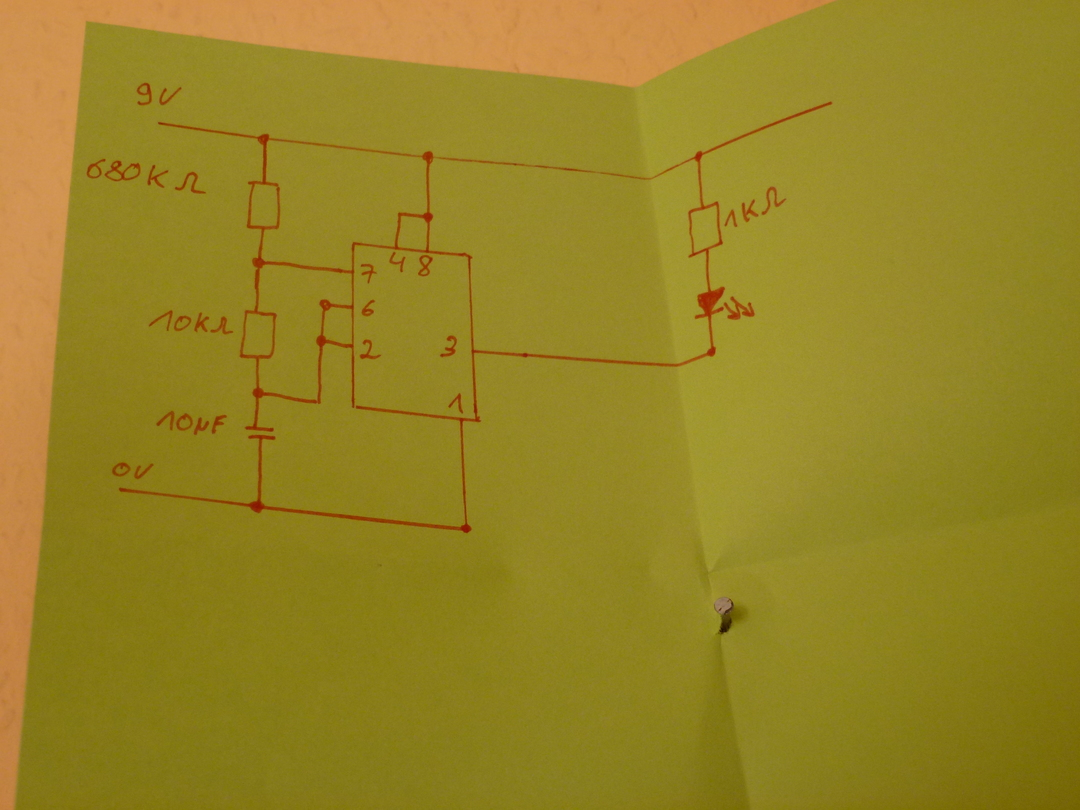capacitor.unpolarized: (243, 422, 278, 443)
diode.light_emitting: (694, 286, 757, 321)
integrated_cricuit.ne555: (350, 241, 482, 424)
junction: (247, 498, 266, 515), (249, 255, 267, 271), (421, 149, 436, 165), (256, 131, 272, 146), (318, 298, 332, 313), (251, 386, 266, 400), (705, 345, 720, 359), (691, 149, 705, 163), (459, 522, 474, 535), (421, 211, 434, 224), (315, 334, 327, 347), (314, 396, 324, 407), (395, 209, 405, 219)
resistor: (687, 201, 723, 259), (238, 308, 277, 360), (245, 179, 283, 232)
terminal: (816, 95, 839, 112), (114, 484, 127, 496), (154, 118, 165, 129)
text: (85, 158, 208, 195), (724, 186, 787, 229), (147, 309, 234, 336), (154, 409, 229, 437), (135, 81, 184, 109), (111, 461, 155, 480), (359, 339, 382, 360), (387, 251, 406, 273), (440, 335, 458, 357), (417, 254, 434, 277), (448, 393, 465, 415), (360, 262, 377, 284), (360, 299, 376, 317)
